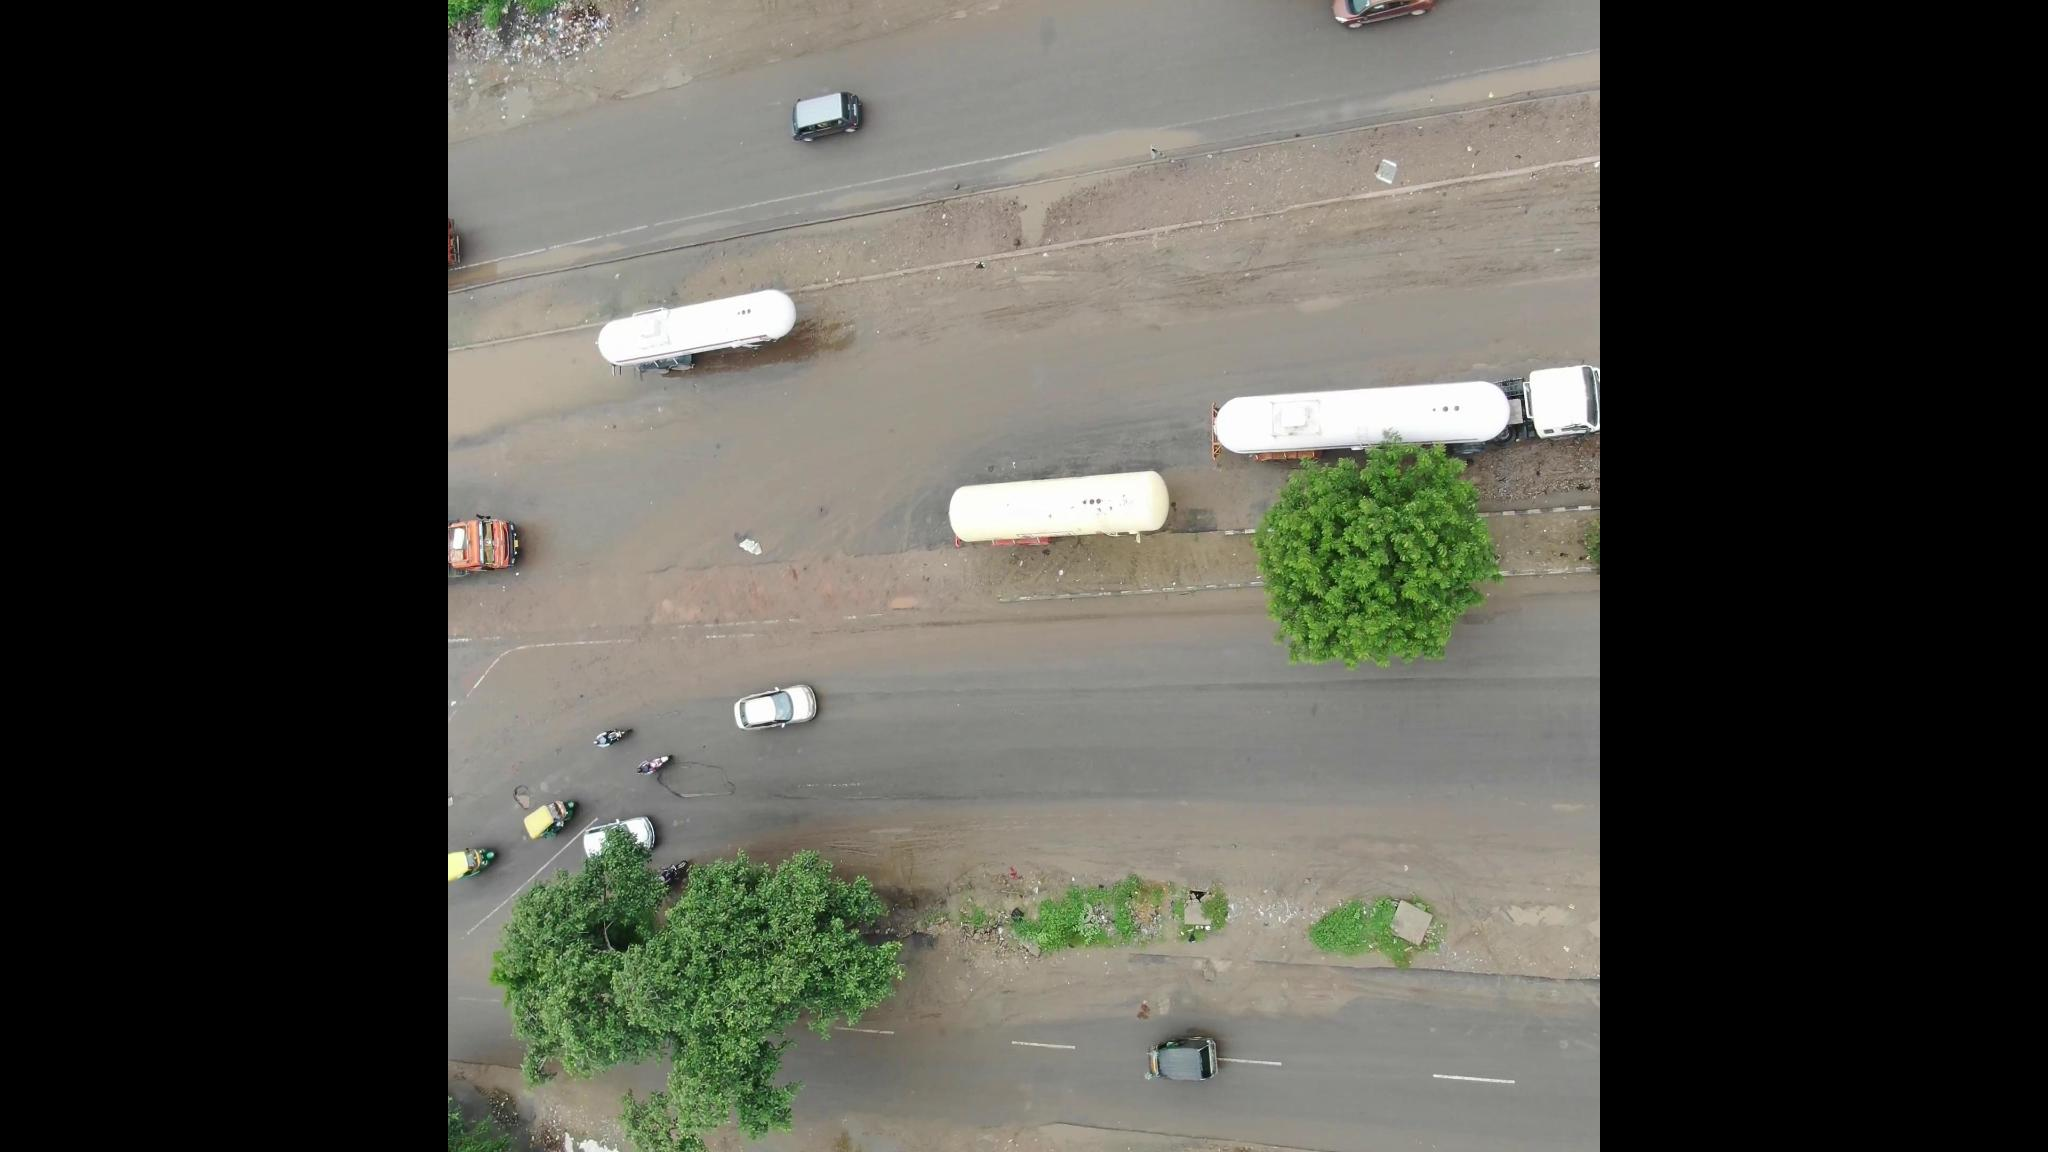Muddy_road: (1108, 217, 1355, 319), (1357, 172, 1568, 286), (817, 812, 1115, 890), (1153, 817, 1431, 897), (833, 270, 1084, 352), (876, 934, 1096, 1020)
Potholes: (636, 567, 782, 627), (1471, 889, 1575, 940)
Waterlogging: (982, 105, 1205, 217)
